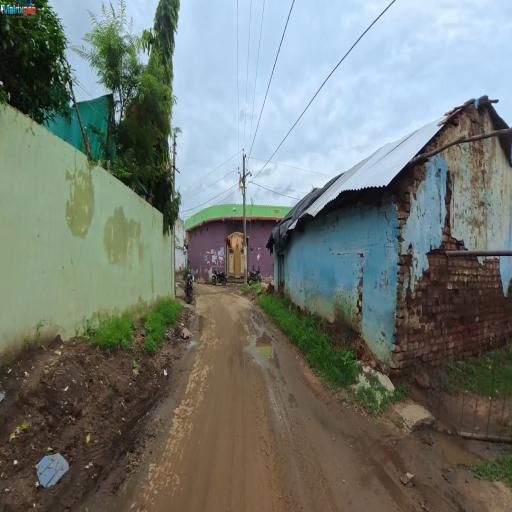pothole: (253, 326, 276, 380)
